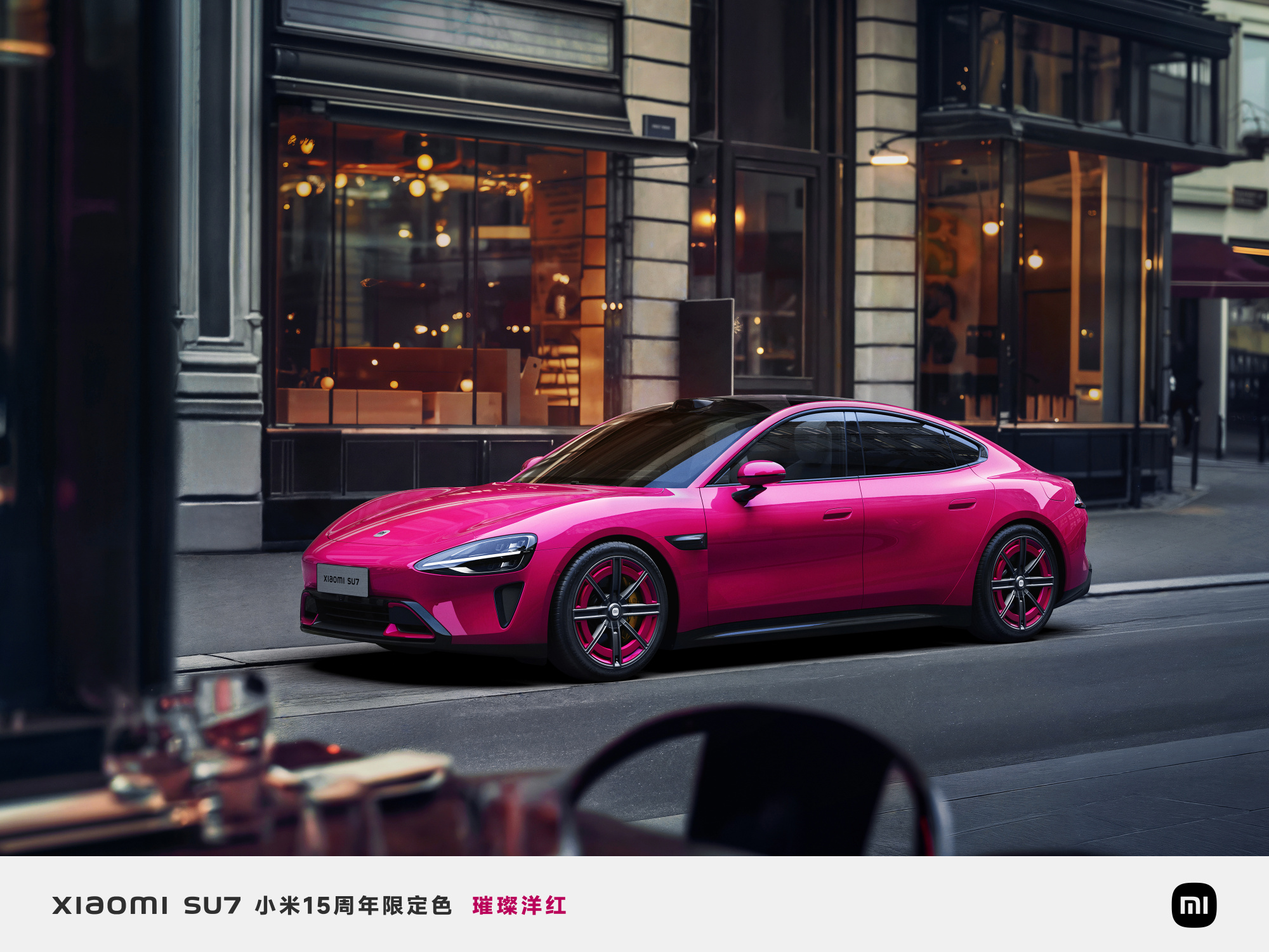su7: (294, 378, 1105, 666)
